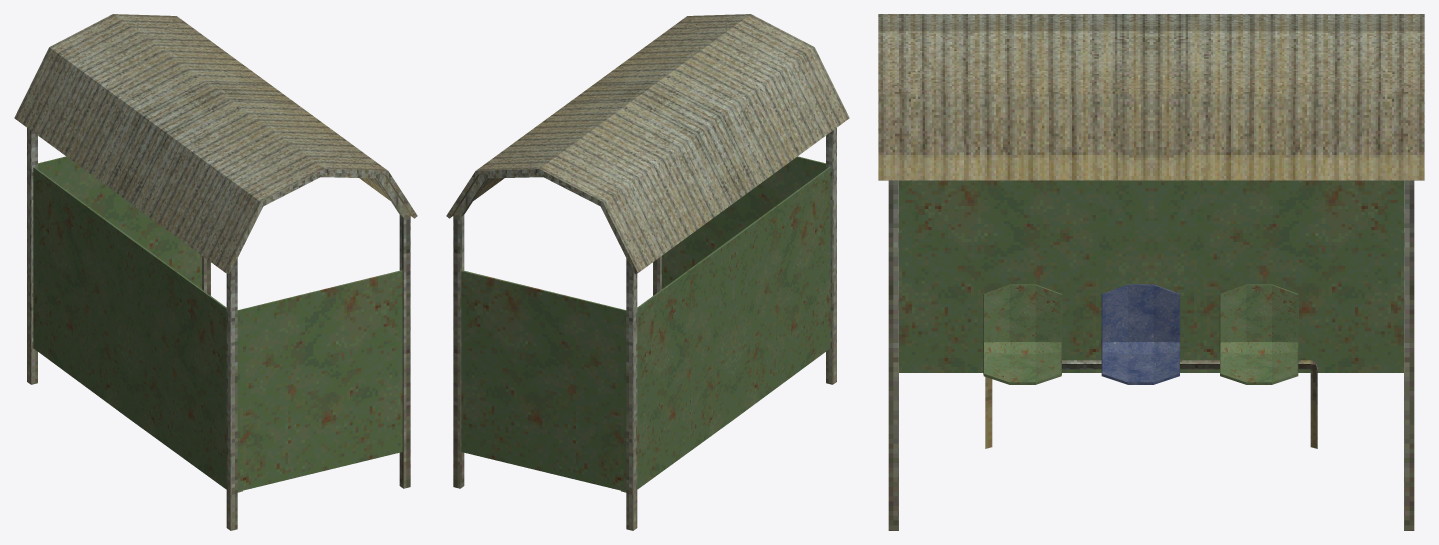
File: busstop_clean_seats_round_roof.glb
The picture shows the model from 3 angles, left to right: view 1: azimuth 30°, elevation 25°; view 2: azimuth 150°, elevation 25°; view 3: azimuth 270°, elevation 25°; orthographic projection. The views are drawn at different scales.
Visible parts, largest first — view 1: busstop_clean_seats_round_roof; view 2: busstop_clean_seats_round_roof; view 3: busstop_clean_seats_round_roof.
Boxes of the visible parts, x1,y1,x2,y2 form: busstop_clean_seats_round_roof: (14,14,417,530); busstop_clean_seats_round_roof: (446,14,849,530); busstop_clean_seats_round_roof: (878,14,1424,530).
Size of the model in its own units: 2.22 by 3.79 by 4.24.
1 material, 1 textured.
